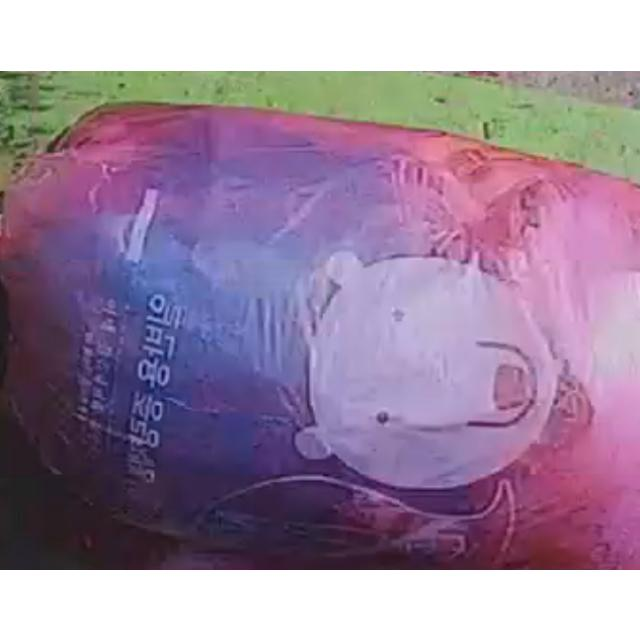other_trashbag: (0, 104, 640, 566)
